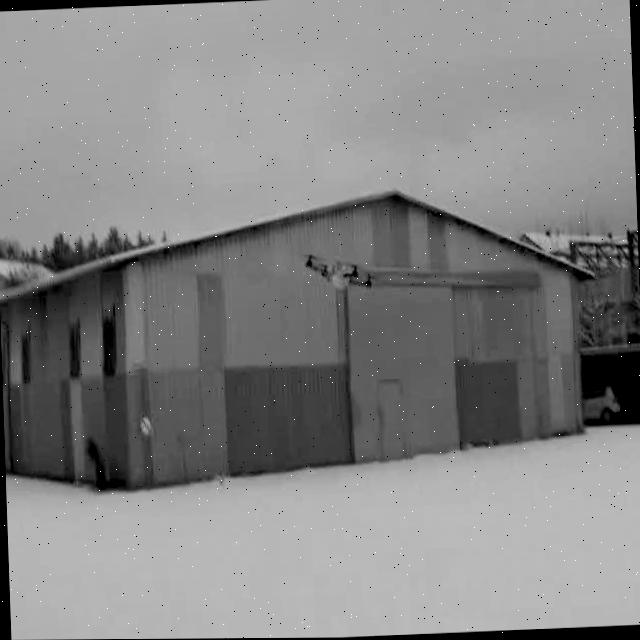drone: (302, 247, 374, 298)
